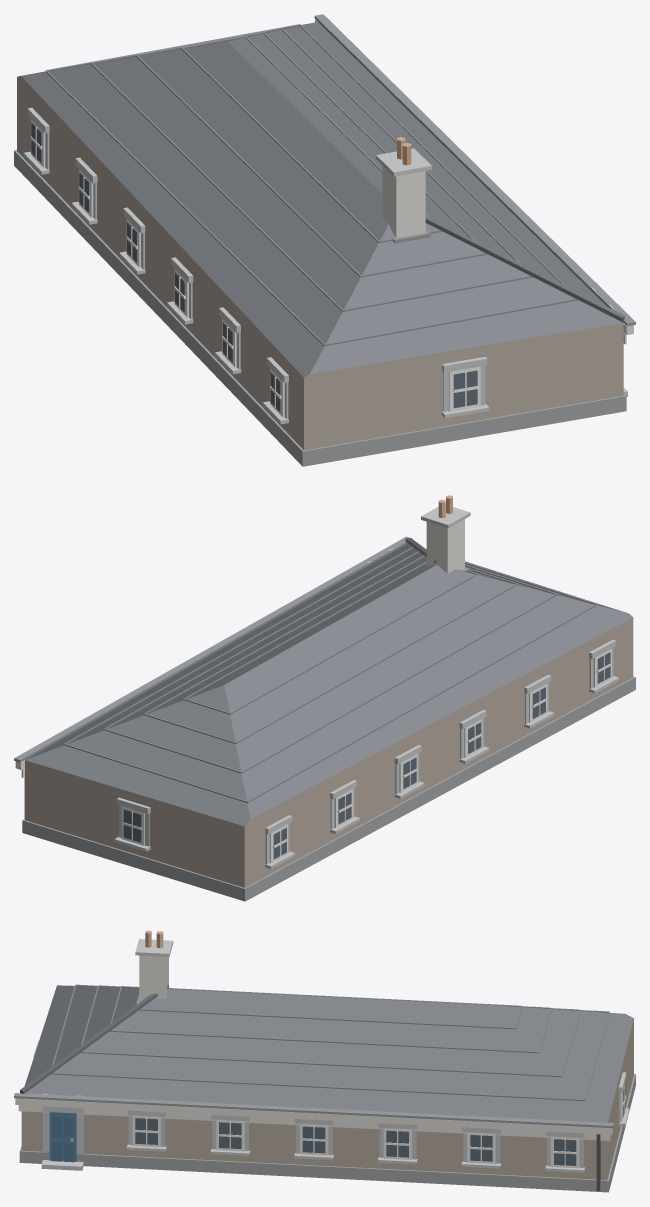
The picture shows the model from 3 angles, top to bottom: view 1: azimuth 30°, elevation 25°; view 2: azimuth 150°, elevation 25°; view 3: azimuth 270°, elevation 25°; orthographic projection. The views are drawn at different scales.
Parts seen in each view (by area): view 1: slate, harl_brown, plinth, slate_lt, stone_band, lead, frame, chim_render, slate_dk, window_glass_014; view 2: slate, harl_brown, plinth, slate_lt, stone_band, lead, frame, chim_render; view 3: slate, harl_brown, plinth, string, stone_band, slate_lt, lead, frame, chim_render, slate_dk, door_blue_p, door_blue (+6 smaller).
Boxes of the visible parts, x1,y1,x2,y2 form: slate: [19, 22, 622, 377]; harl_brown: [17, 76, 623, 450]; plinth: [14, 150, 626, 466]; slate_lt: [45, 24, 578, 346]; stone_band: [23, 107, 627, 424]; lead: [314, 14, 635, 326]; frame: [30, 119, 480, 417]; chim_render: [382, 166, 425, 238]; slate_dk: [425, 215, 624, 321]; window_glass_014: [453, 370, 477, 408]; slate: [25, 543, 632, 826]; harl_brown: [25, 617, 633, 887]; plinth: [22, 676, 635, 901]; slate_lt: [64, 547, 597, 802]; stone_band: [114, 505, 618, 868]; lead: [14, 536, 469, 762]; frame: [121, 648, 611, 862]; chim_render: [426, 519, 464, 573]; slate: [24, 985, 633, 1122]; harl_brown: [21, 1019, 633, 1179]; plinth: [19, 1074, 635, 1192]; string: [15, 1098, 612, 1140]; stone_band: [33, 939, 629, 1172]; slate_lt: [51, 984, 609, 1100]; lead: [14, 994, 614, 1128]; frame: [132, 1084, 625, 1168]; chim_render: [139, 955, 168, 1002]; slate_dk: [20, 984, 168, 1093]; door_blue_p: [52, 1116, 73, 1162]; door_blue: [49, 1112, 76, 1161].
Bounding box in the file's own units: 11.99 × 7.03 × 21.91.
